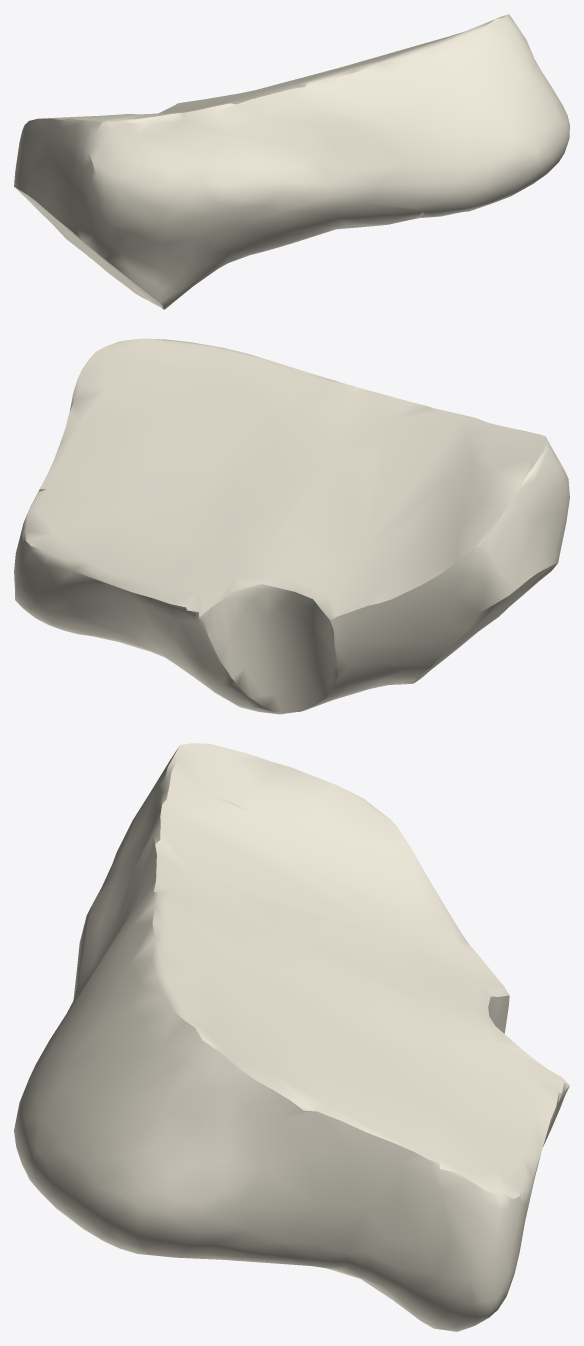
The model's file is fma35513_mm1900.glb.
3 views of the same model, one above another, from view 1: azimuth 30°, elevation 25°; view 2: azimuth 150°, elevation 25°; view 3: azimuth 270°, elevation 25° (orthographic). The views are drawn at different scales.
Parts seen in each view (by area): view 1: FMA35513_MM1900; view 2: FMA35513_MM1900; view 3: FMA35513_MM1900.
Part boxes in pixels (x1,y1,x2,y2): FMA35513_MM1900: (14, 14, 569, 309); FMA35513_MM1900: (14, 338, 569, 714); FMA35513_MM1900: (14, 743, 569, 1331).
Bounding box in the file's own units: 0.0315 × 0.0154 × 0.0213.
